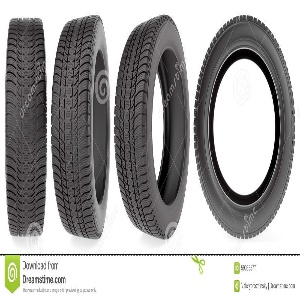tire: (197, 14, 293, 239), (118, 16, 191, 238), (52, 18, 112, 240), (4, 16, 48, 237)
